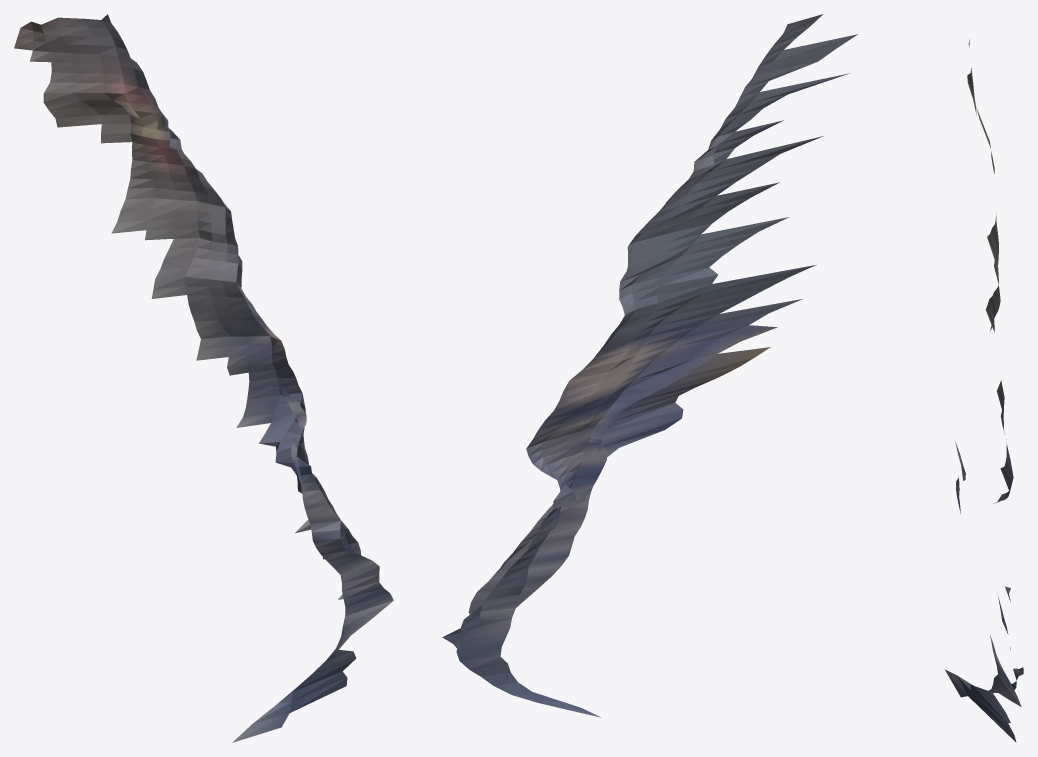
The model's file is entity-sign-11.glb.
The picture shows the model from 3 angles, left to right: view 1: azimuth 30°, elevation 25°; view 2: azimuth 150°, elevation 25°; view 3: azimuth 270°, elevation 25°; orthographic projection. The views are drawn at different scales.
Visible parts, largest first — view 1: geometry_0; view 2: geometry_0; view 3: geometry_0.
Boxes of the visible parts, x1,y1,x2,y2 form: geometry_0: (14, 14, 393, 742); geometry_0: (442, 14, 857, 717); geometry_0: (945, 39, 1023, 742).
Bounding box in the file's own units: 0.4537 × 0.8164 × 0.1652.
